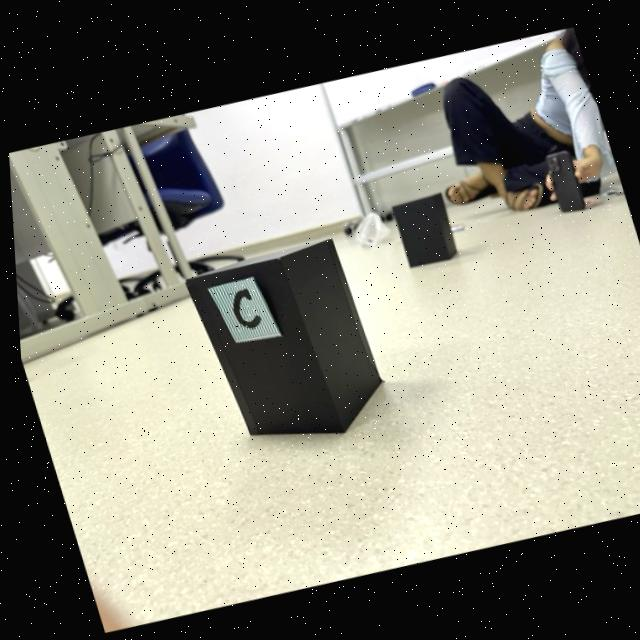C: (229, 288, 258, 327)
